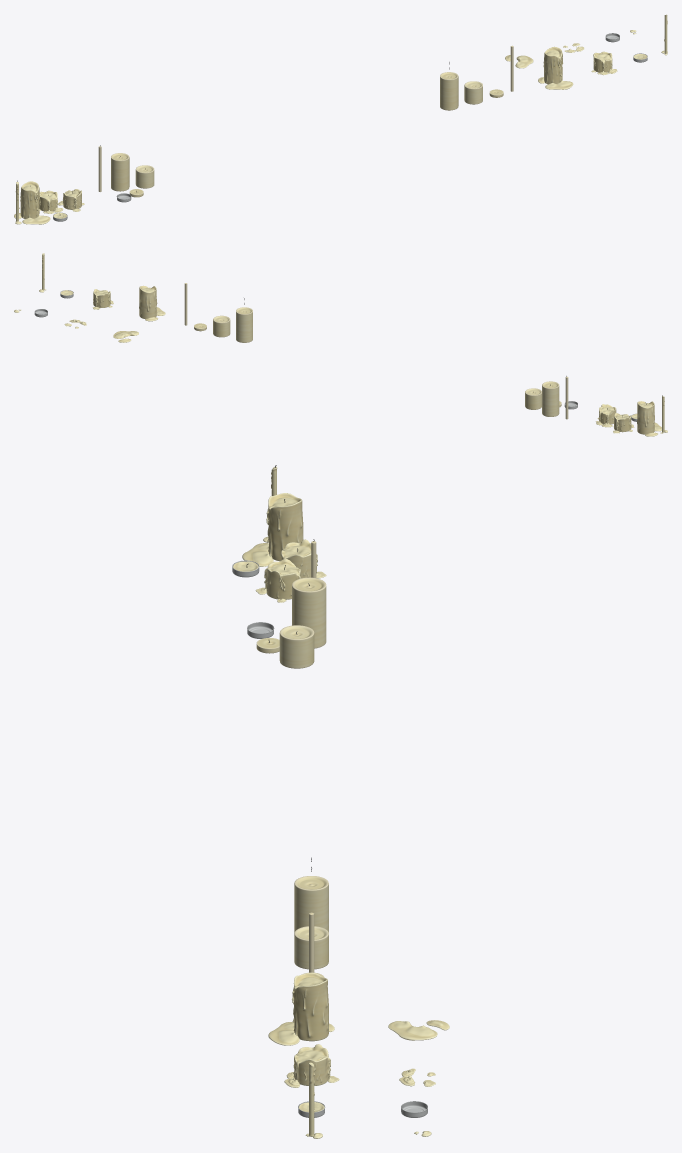
The model's file is candles.fbx.
3 views of the same model, one above another, from view 1: azimuth 30°, elevation 25°; view 2: azimuth 150°, elevation 25°; view 3: azimuth 270°, elevation 25° (orthographic). The views are drawn at different scales.
Parts seen in each view (by area): view 1: Candle_large_big_new, Candle_large_big_new.001, Candle_large_big_used_low.001, Candle_large_big_used_low, Candle_large_small_new.001, Candle_large_small_new, Candle_large_small_used_low, Candle_large_small_used_low.001, Candle_large_small_used_low.002; view 2: Candle_large_big_new.001, Candle_large_big_new, Candle_large_big_used_low.001, Candle_large_big_used_low, Candle_large_small_new, Candle_large_small_new.001, Candle_large_small_used_low, Candle_large_small_used_low.001, Candle_large_small_used_low.002; view 3: Candle_large_big_used_low, Candle_large_big_used_low.001, Candle_large_big_new.001, Candle_large_big_new, Candle_large_small_new.001, Candle_large_small_used_low, Candle_large_small_new, Candle_large_small_used_low.002.
Part boxes in pixels (<box>): Candle_large_big_new: <box>440,72,458,110</box>; Candle_large_big_new.001: <box>111,153,129,191</box>; Candle_large_big_used_low.001: <box>20,181,39,218</box>; Candle_large_big_used_low: <box>543,46,563,84</box>; Candle_large_small_new.001: <box>135,165,154,188</box>; Candle_large_small_new: <box>464,81,482,104</box>; Candle_large_small_used_low: <box>593,51,612,72</box>; Candle_large_small_used_low.001: <box>39,190,57,211</box>; Candle_large_small_used_low.002: <box>62,189,81,209</box>; Candle_large_big_new.001: <box>542,381,559,416</box>; Candle_large_big_new: <box>236,307,252,342</box>; Candle_large_big_used_low.001: <box>637,401,655,434</box>; Candle_large_big_used_low: <box>139,285,157,319</box>; Candle_large_small_new: <box>213,315,230,337</box>; Candle_large_small_new.001: <box>525,388,541,409</box>; Candle_large_small_used_low: <box>93,289,110,307</box>; Candle_large_small_used_low.001: <box>614,413,631,432</box>; Candle_large_small_used_low.002: <box>598,404,616,424</box>; Candle_large_big_used_low: <box>292,972,328,1041</box>; Candle_large_big_used_low.001: <box>266,493,303,561</box>; Candle_large_big_new.001: <box>292,577,326,648</box>; Candle_large_big_new: <box>294,876,328,932</box>; Candle_large_small_new.001: <box>279,625,314,668</box>; Candle_large_small_used_low: <box>293,1044,330,1085</box>; Candle_large_small_new: <box>294,926,328,969</box>; Candle_large_small_used_low.002: <box>264,559,300,599</box>.
Bounding box in the file's own units: 270 × 18.59 × 41.29.
